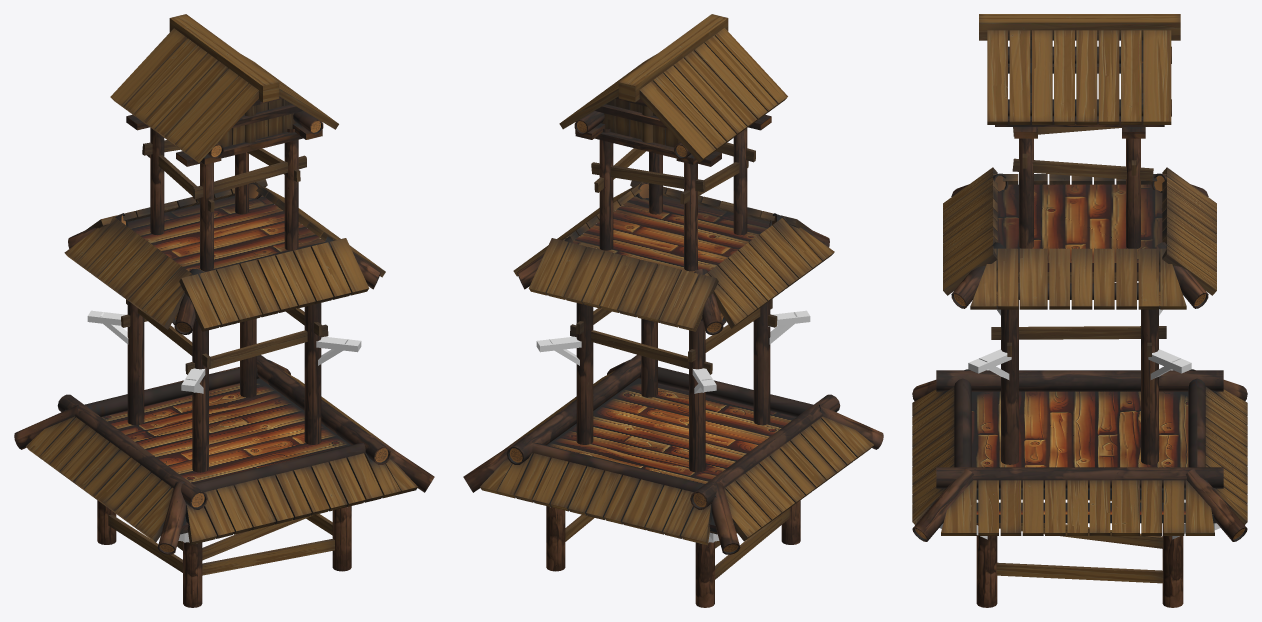
Rendered from tower.fbx.
3 views of the same model, side by side, from view 1: azimuth 30°, elevation 25°; view 2: azimuth 150°, elevation 25°; view 3: azimuth 270°, elevation 25° (orthographic). The views are drawn at different scales.
Parts seen in each view (by area): view 1: floor01, floor02, top, stake02, stake01.002, stake01.001, wood_01, stake01, wood_01.001, wood_01.002, holder.001; view 2: floor01, floor02, top, stake02, stake01.002, stake01.001, stake01, wood_01.001, wood_01.002, holder.001, wood_01; view 3: floor01, floor02, top, stake02, stake01.002, stake01.001, wood_01, stake01, wood_01.001, wood_01.002, holder.001.
Part boxes in pixels (x1,y1,x2,y2): floor01: [14, 359, 434, 554]; floor02: [64, 179, 385, 334]; top: [110, 14, 338, 166]; stake02: [57, 355, 391, 509]; stake01.002: [127, 301, 321, 472]; stake01.001: [150, 128, 298, 271]; wood_01: [108, 514, 334, 575]; stake01: [97, 500, 351, 607]; wood_01.001: [121, 299, 328, 374]; wood_01.002: [142, 140, 306, 212]; holder.001: [87, 310, 361, 393]; floor01: [463, 359, 883, 554]; floor02: [513, 180, 834, 334]; top: [559, 14, 787, 166]; stake02: [506, 354, 840, 509]; stake01.002: [576, 301, 770, 472]; stake01.001: [599, 128, 747, 271]; stake01: [546, 500, 800, 607]; wood_01.001: [570, 299, 777, 374]; wood_01.002: [591, 142, 755, 204]; holder.001: [536, 310, 810, 393]; wood_01: [565, 508, 789, 579]; floor01: [912, 369, 1247, 541]; floor02: [943, 167, 1216, 309]; top: [979, 14, 1180, 138]; stake02: [936, 370, 1223, 488]; stake01.002: [1001, 272, 1158, 464]; stake01.001: [1019, 138, 1140, 248]; wood_01: [996, 499, 1163, 583]; stake01: [976, 499, 1183, 607]; wood_01.001: [991, 272, 1166, 356]; wood_01.002: [1012, 127, 1153, 181]; holder.001: [968, 309, 1191, 379].
Bounding box in the file's own units: 747 × 1305 × 727.
9 materials, 8 textured.
